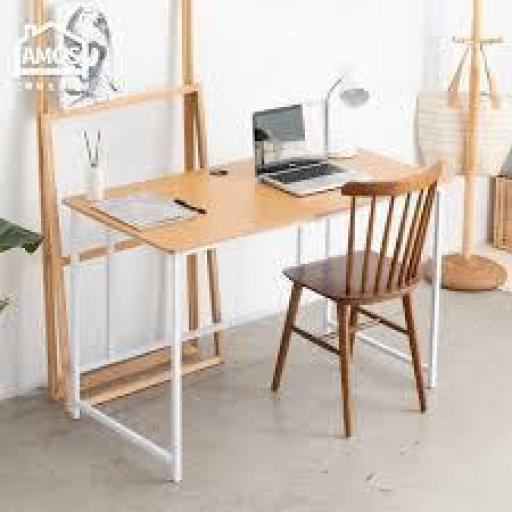table: (23, 4, 466, 478)
